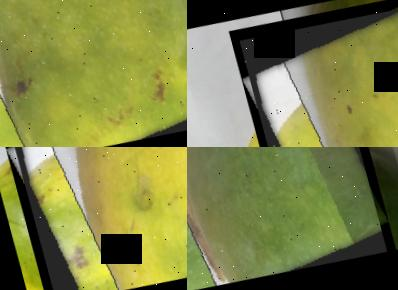PartiallyRipe: (0, 0, 187, 147), (237, 0, 398, 147)
Ripe: (4, 147, 187, 290)
Unripe: (187, 147, 387, 290)
